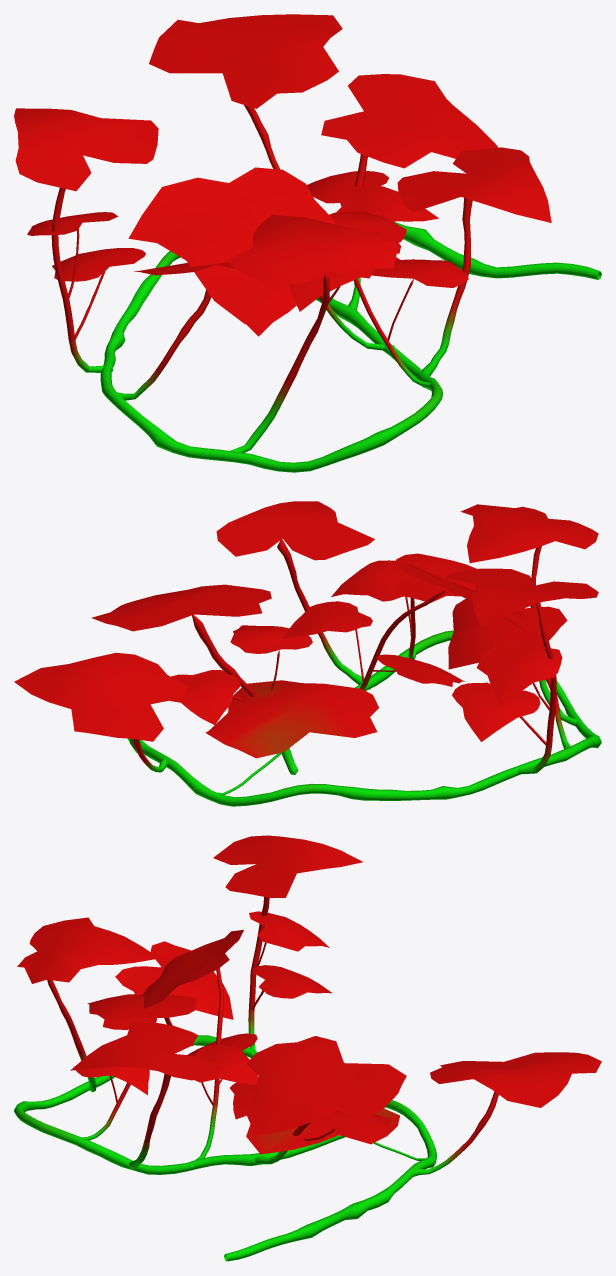
Rendered from Var4_LOD0.fbx.
The picture shows the model from 3 angles, top to bottom: view 1: azimuth 30°, elevation 25°; view 2: azimuth 150°, elevation 25°; view 3: azimuth 270°, elevation 25°; orthographic projection. The views are drawn at different scales.
Visible parts, largest first — view 1: _6iqt_Var4_LOD0; view 2: _6iqt_Var4_LOD0; view 3: _6iqt_Var4_LOD0.
Part boxes in pixels (x1=…): _6iqt_Var4_LOD0: x1=14, y1=14, x2=601, y2=472; _6iqt_Var4_LOD0: x1=14, y1=501, x2=601, y2=806; _6iqt_Var4_LOD0: x1=14, y1=835, x2=601, y2=1261.
Bounding box in the file's own units: 29.16 × 12.73 × 31.26.
